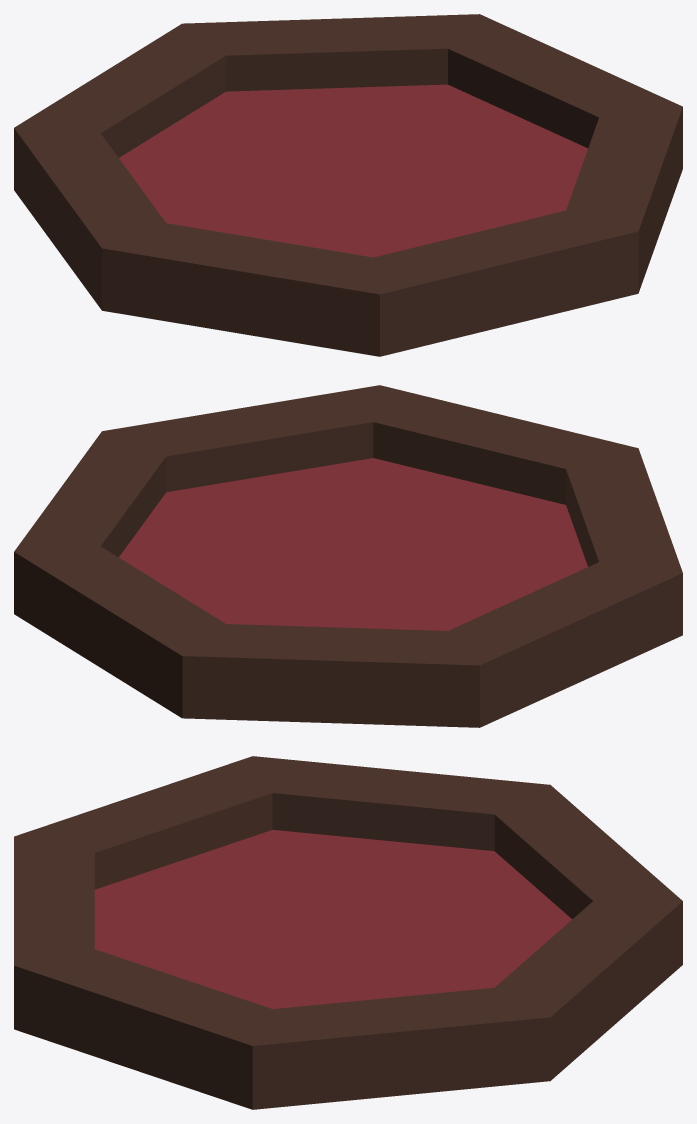
The model's file is Chocolate fountain bottom.fbx.
3 renders of one model, top to bottom at view 1: azimuth 30°, elevation 25°; view 2: azimuth 150°, elevation 25°; view 3: azimuth 270°, elevation 25°, orthographic. The views are drawn at different scales.
Parts seen in each view (by area): view 1: Fountain bottom; view 2: Fountain bottom; view 3: Fountain bottom.
Part boxes in pixels (x1,y1,x2,y2): Fountain bottom: (14,14,682,356); Fountain bottom: (14,385,682,727); Fountain bottom: (14,756,682,1109).
Bounding box in the file's own units: 1251 × 128 × 1220.
